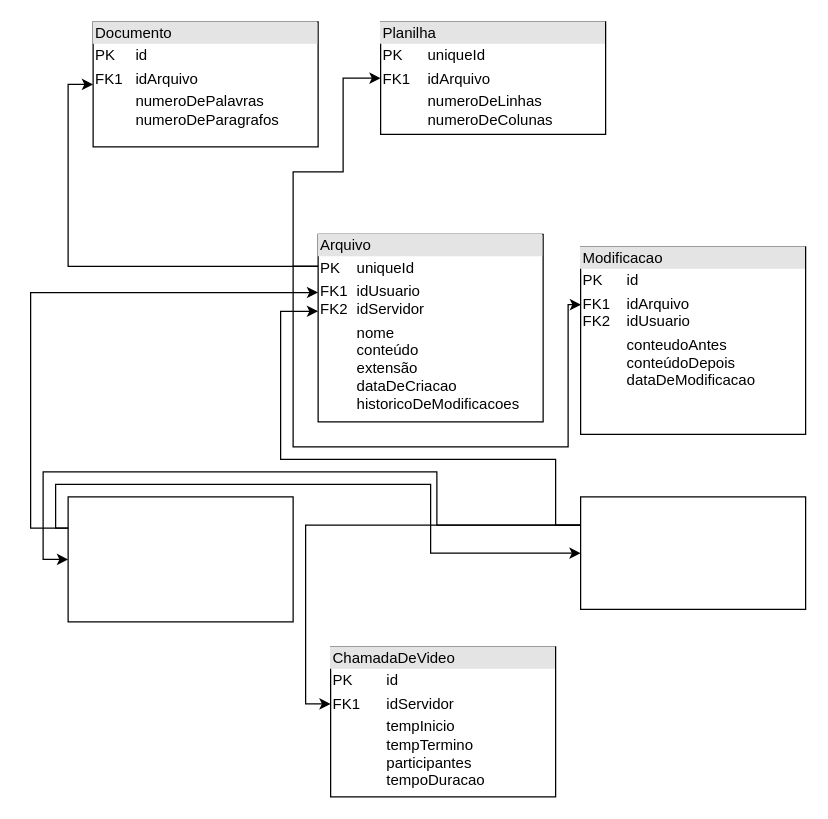
This 828x819 diagram has some shape labels left out. Here are the shapes that lost their labels. From the top down, the centre of each, then its label:
At (x=180, y=559): "Usuário PK id FK1 idServidor email nome apelido".
At (x=692, y=552): "Servidor PK id FK1 idDono titulo dataDeCriacao".
